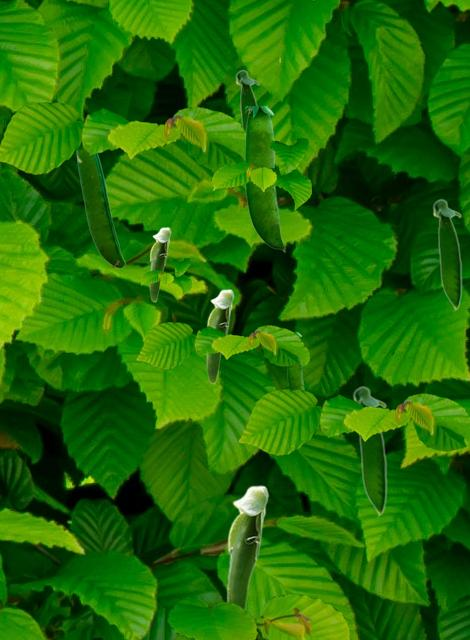pea: (76, 145, 124, 267), (245, 106, 284, 251), (226, 485, 268, 609), (352, 385, 386, 517), (432, 198, 461, 311), (206, 289, 233, 383), (149, 227, 170, 301), (235, 69, 259, 127), (287, 332, 304, 389)
